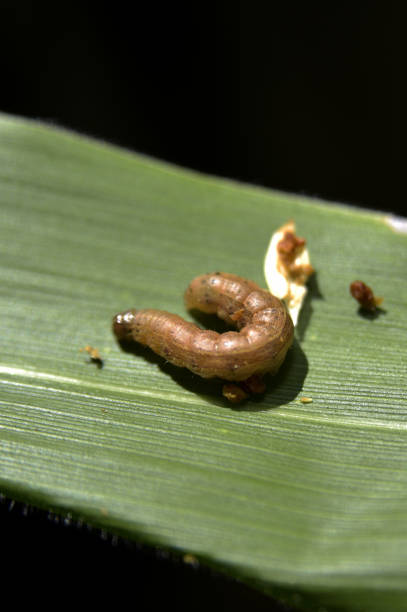Armyworm: (107, 258, 302, 397)
